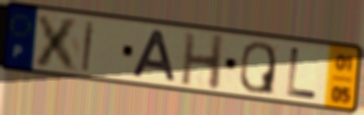A: (129, 28, 178, 84)
H: (179, 31, 227, 93)
I: (79, 18, 97, 74)
L: (284, 45, 320, 101)
Q: (237, 40, 278, 97)
X: (31, 11, 84, 74)
